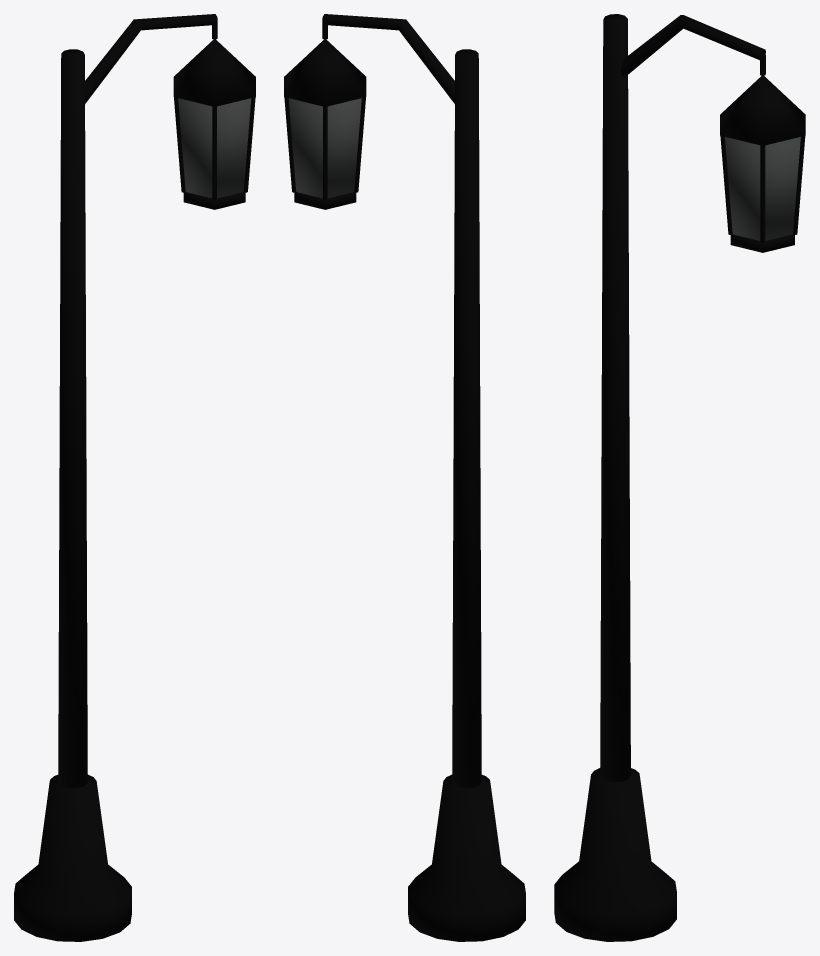
The model's file is vespera_poste_apagado.glb.
3 views of the same model, side by side, from view 1: azimuth 30°, elevation 25°; view 2: azimuth 150°, elevation 25°; view 3: azimuth 330°, elevation 25° (orthographic). The views are drawn at different scales.
Parts seen in each view (by area): view 1: vespera_poste_apagado_tronco, vidro; view 2: vespera_poste_apagado_tronco, vidro; view 3: vespera_poste_apagado_tronco, vidro.
Part boxes in pixels (box(x1,y1,x2,y2)): vespera_poste_apagado_tronco: box(14, 14, 255, 941); vidro: box(178, 98, 251, 198); vespera_poste_apagado_tronco: box(284, 14, 525, 941); vidro: box(288, 98, 361, 198); vespera_poste_apagado_tronco: box(554, 14, 805, 941); vidro: box(725, 137, 800, 240).
Bounding box in the file's own units: 0.91 × 3.27 × 0.4.
Materials: 2 (1 with a texture image).
